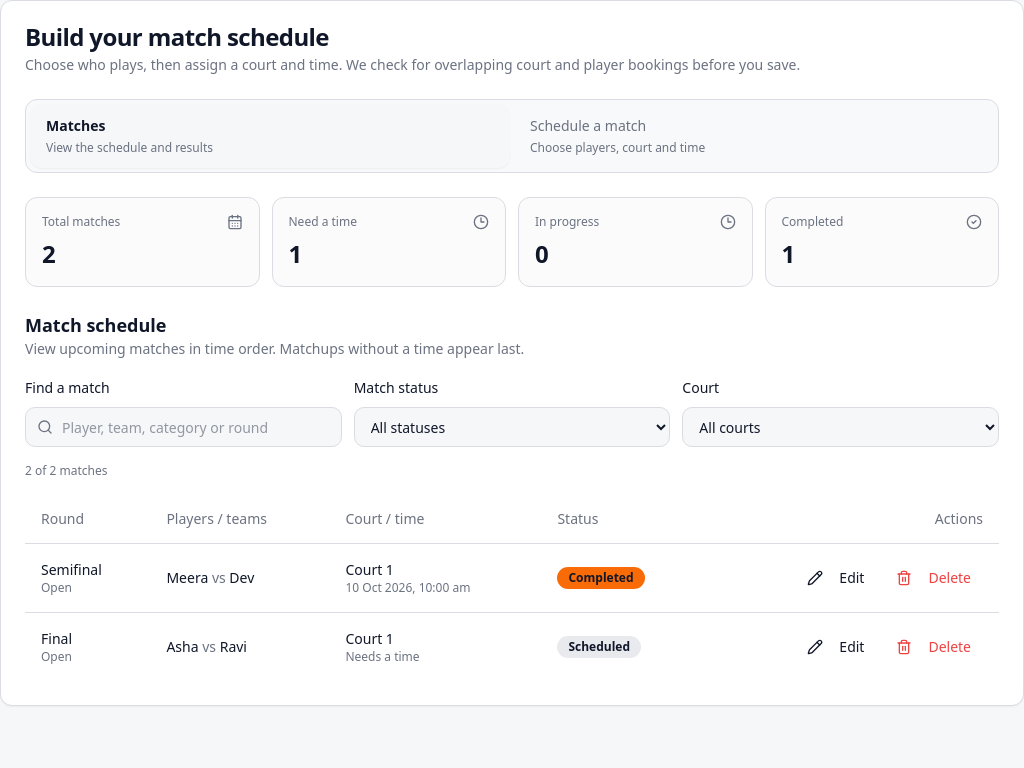
it: match scheduling usability › filters by name and missing time, and lets organizers clear filters
The width and height of the screenshot is (1024, 768).
Type "Meera" into the field labelled "Find a match" at (183, 427), box [25,407,342,447]
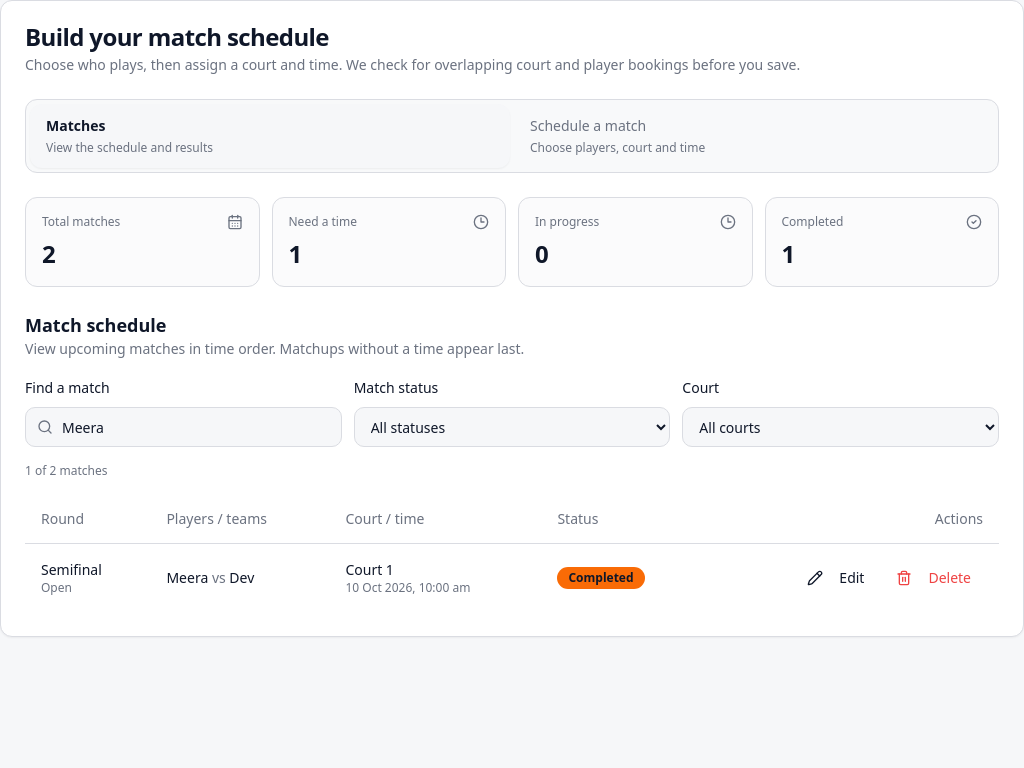
Expected: the text "Meera vs Dev" is shown, [166,568,254,586]
Expected: the text "Asha" is gone
Select "Needs a time" in the dropdown labelled "Match status" at (512, 427), box [354,407,670,447]
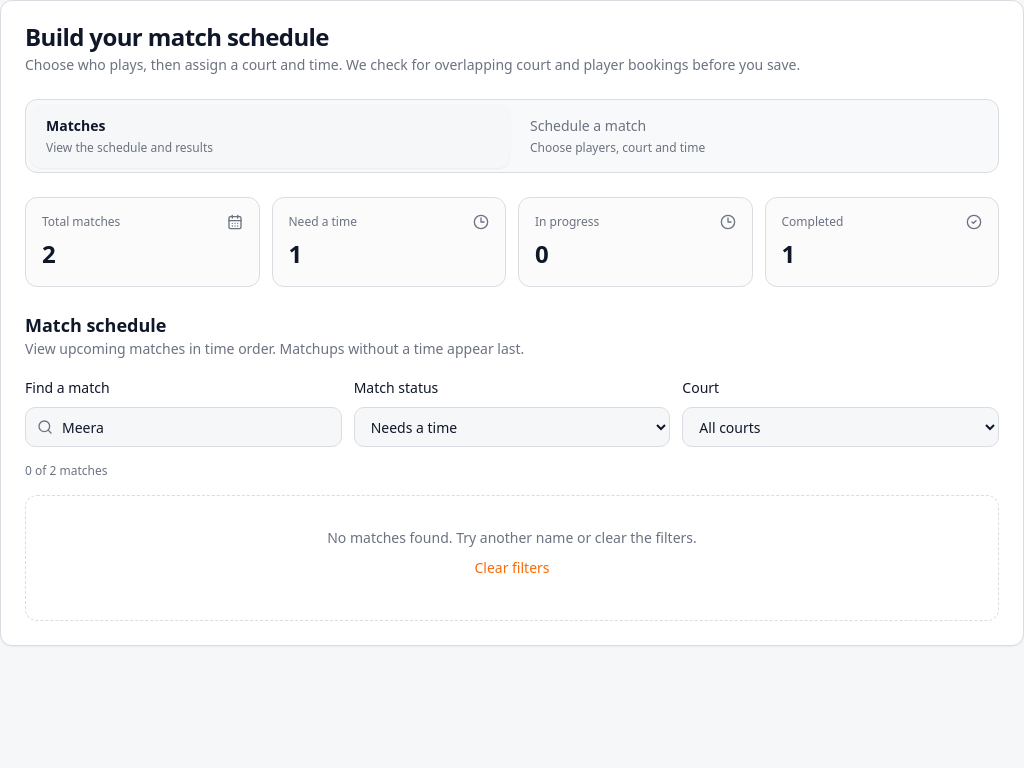
Expected: the text "No matches found. Try another name or clear the filters." is shown, [327,528,697,547]
Click the button "Clear filters" at (512, 568), box [458,548,566,588]
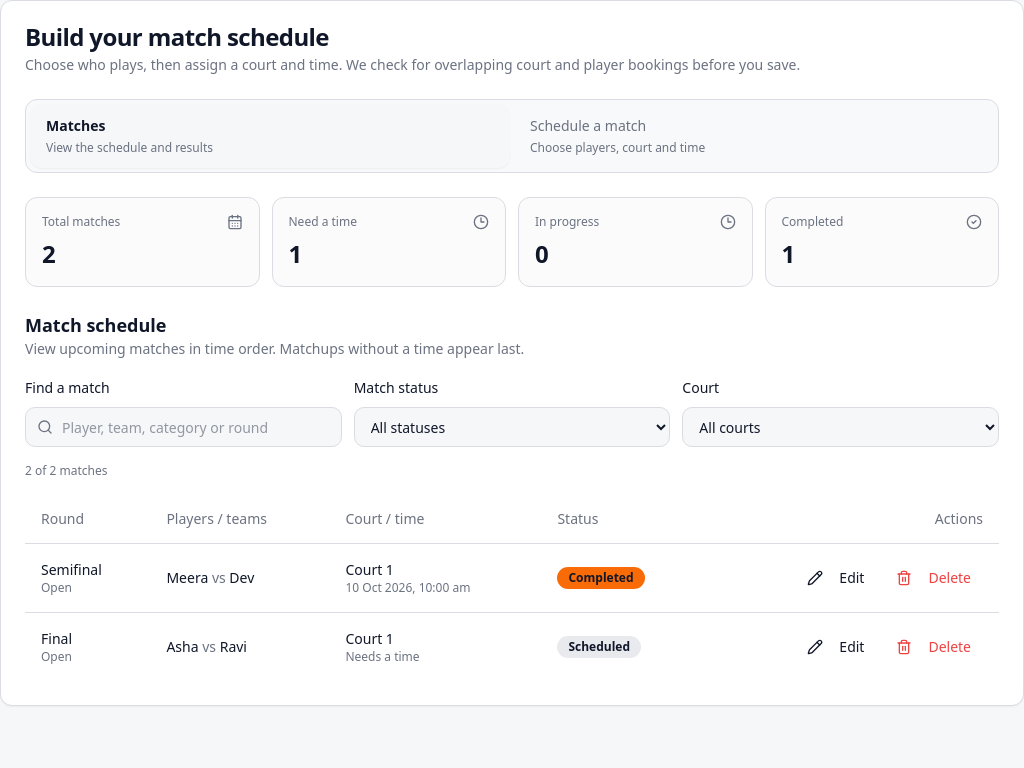
Expected: the text "2 of 2 matches" is shown, [25,462,108,479]
